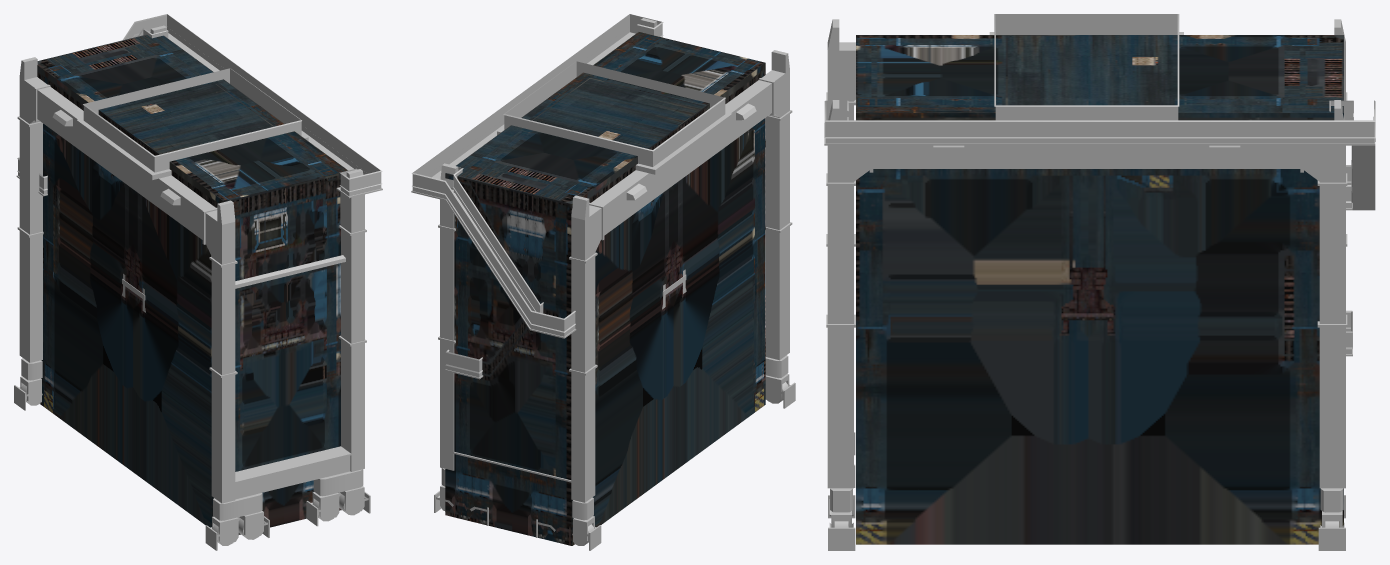
The model's file is dz_industrial_18.fbx.
3 renders of one model, left to right at view 1: azimuth 30°, elevation 25°; view 2: azimuth 150°, elevation 25°; view 3: azimuth 270°, elevation 25°, orthographic. The views are drawn at different scales.
Visible parts, largest first — view 1: dz_industrial_18_LOD0; view 2: dz_industrial_18_LOD0; view 3: dz_industrial_18_LOD0.
Part boxes in pixels (box(x1,y1,x2,y2)): dz_industrial_18_LOD0: box(14, 14, 382, 550); dz_industrial_18_LOD0: box(411, 14, 795, 550); dz_industrial_18_LOD0: box(824, 14, 1375, 550).
Size of what is drawn, in the model's own units: 9.43 by 18.6 by 20.95.
